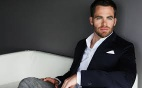male: (85, 1, 122, 43)
